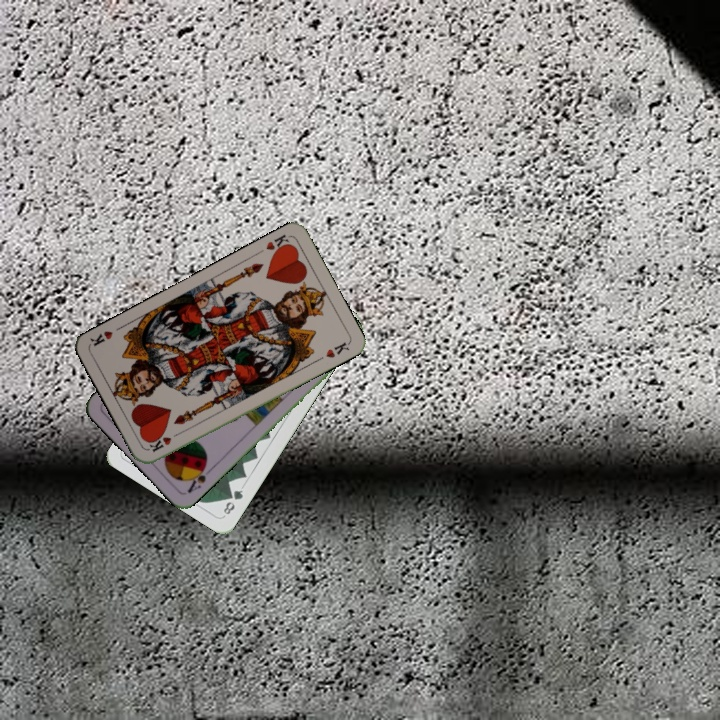G8: (219, 486, 246, 517)
HK: (145, 428, 183, 455), (262, 230, 294, 258)
SA: (183, 459, 215, 496)
